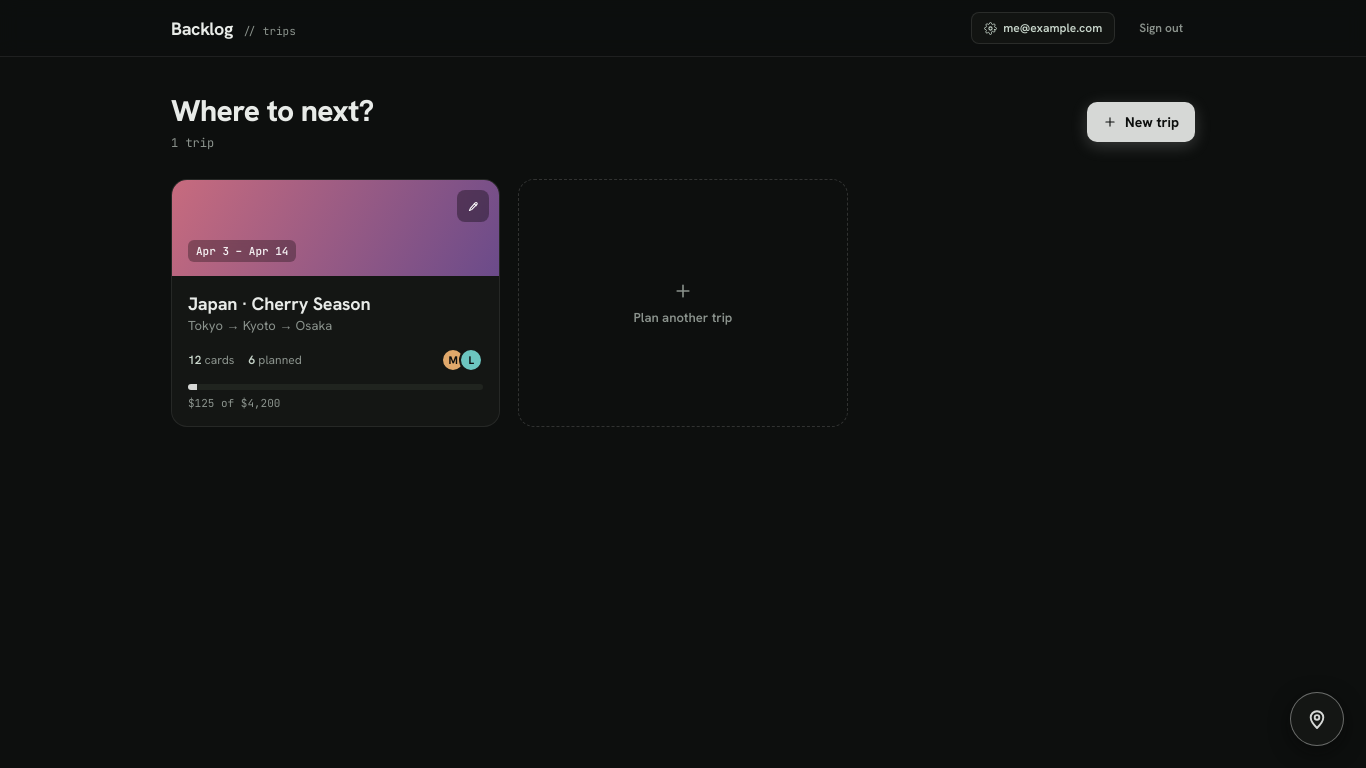
Scenario: TripPlanner › tour › Escape skips to the end, then closes
Expected: the heading "Where to next?" is shown, left=171, top=93, right=374, bottom=129
Click the button with aria-label "Open Japan · Cherry Season". click: (279, 304)
box: left=188, top=292, right=370, bottom=315
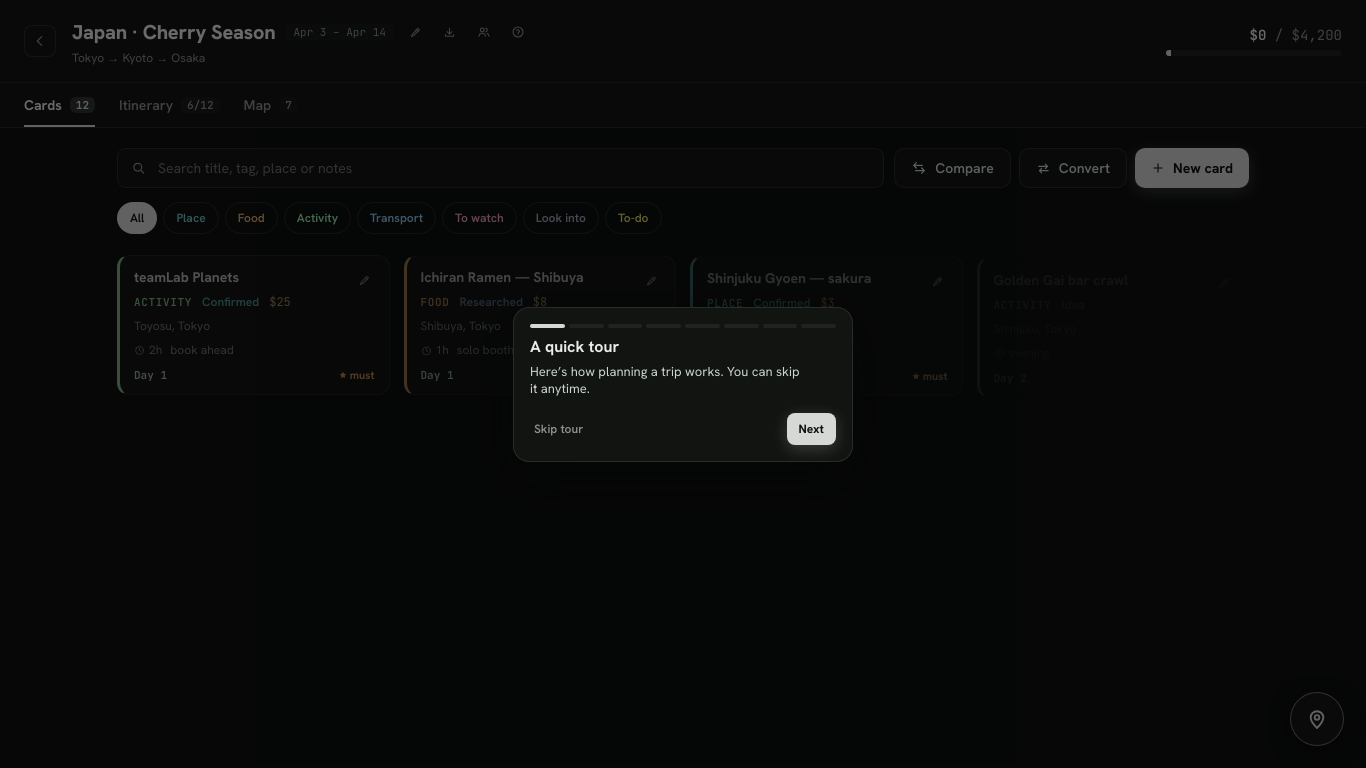
Now the dialog is shown, box left=513, top=306, right=853, bottom=462
Press Escape
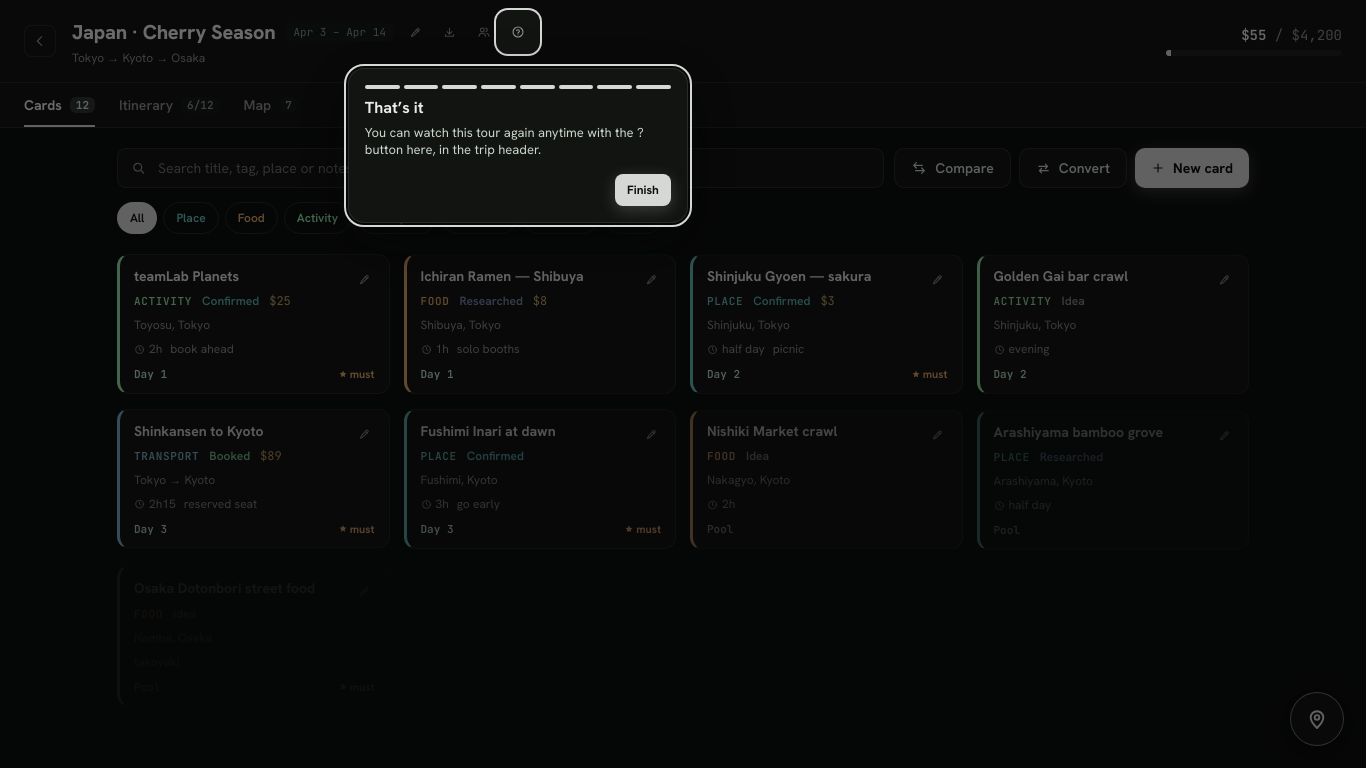
Now the heading reads "That’s it", box left=365, top=97, right=424, bottom=118
Press Escape
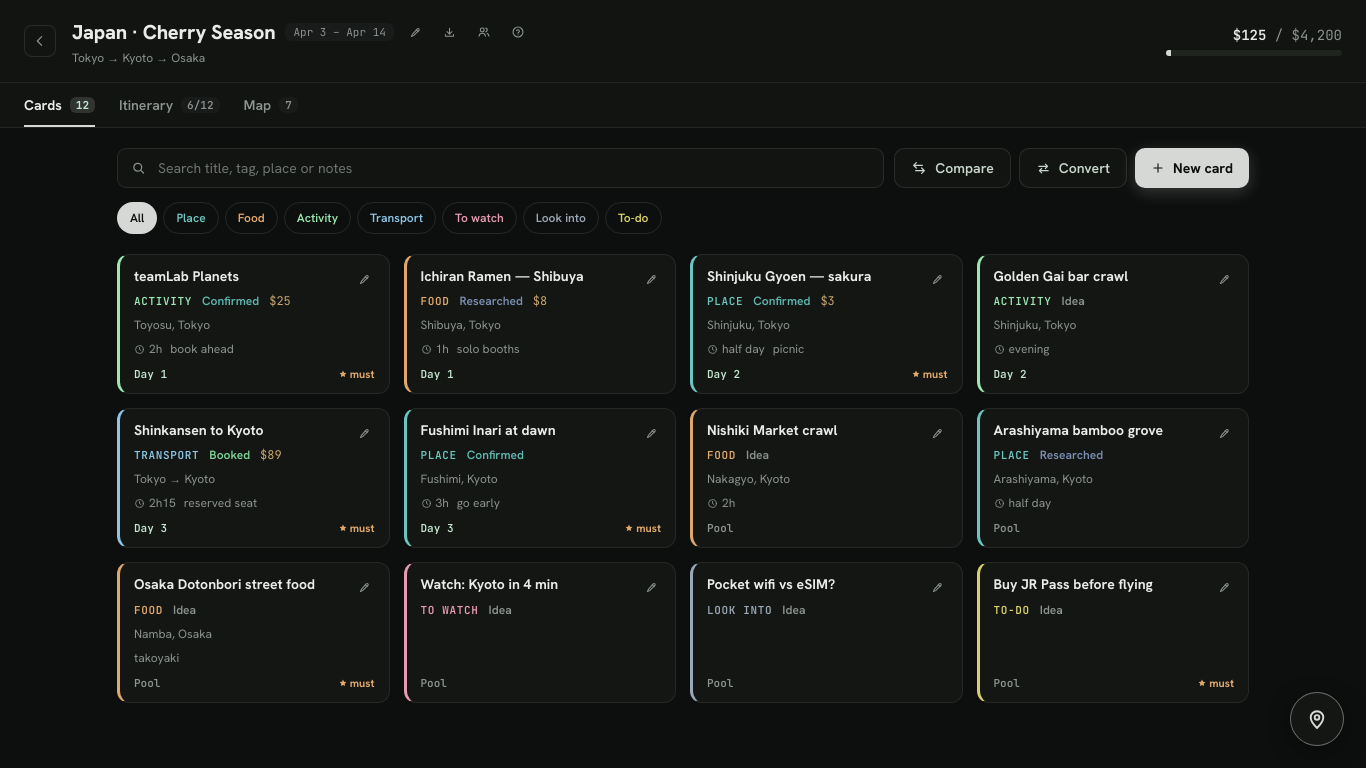
Now the dialog is gone
